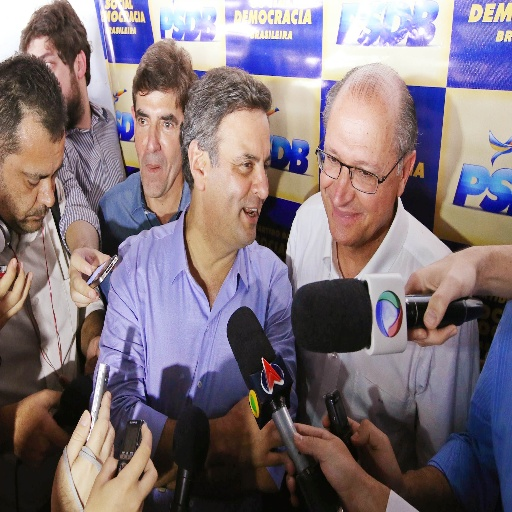hand: (405, 231, 500, 348), (50, 389, 116, 511), (81, 420, 156, 511), (320, 410, 403, 486), (284, 421, 354, 509), (12, 382, 69, 471), (225, 390, 286, 468), (67, 246, 111, 310), (0, 254, 32, 330), (83, 332, 100, 383), (153, 461, 179, 493)
